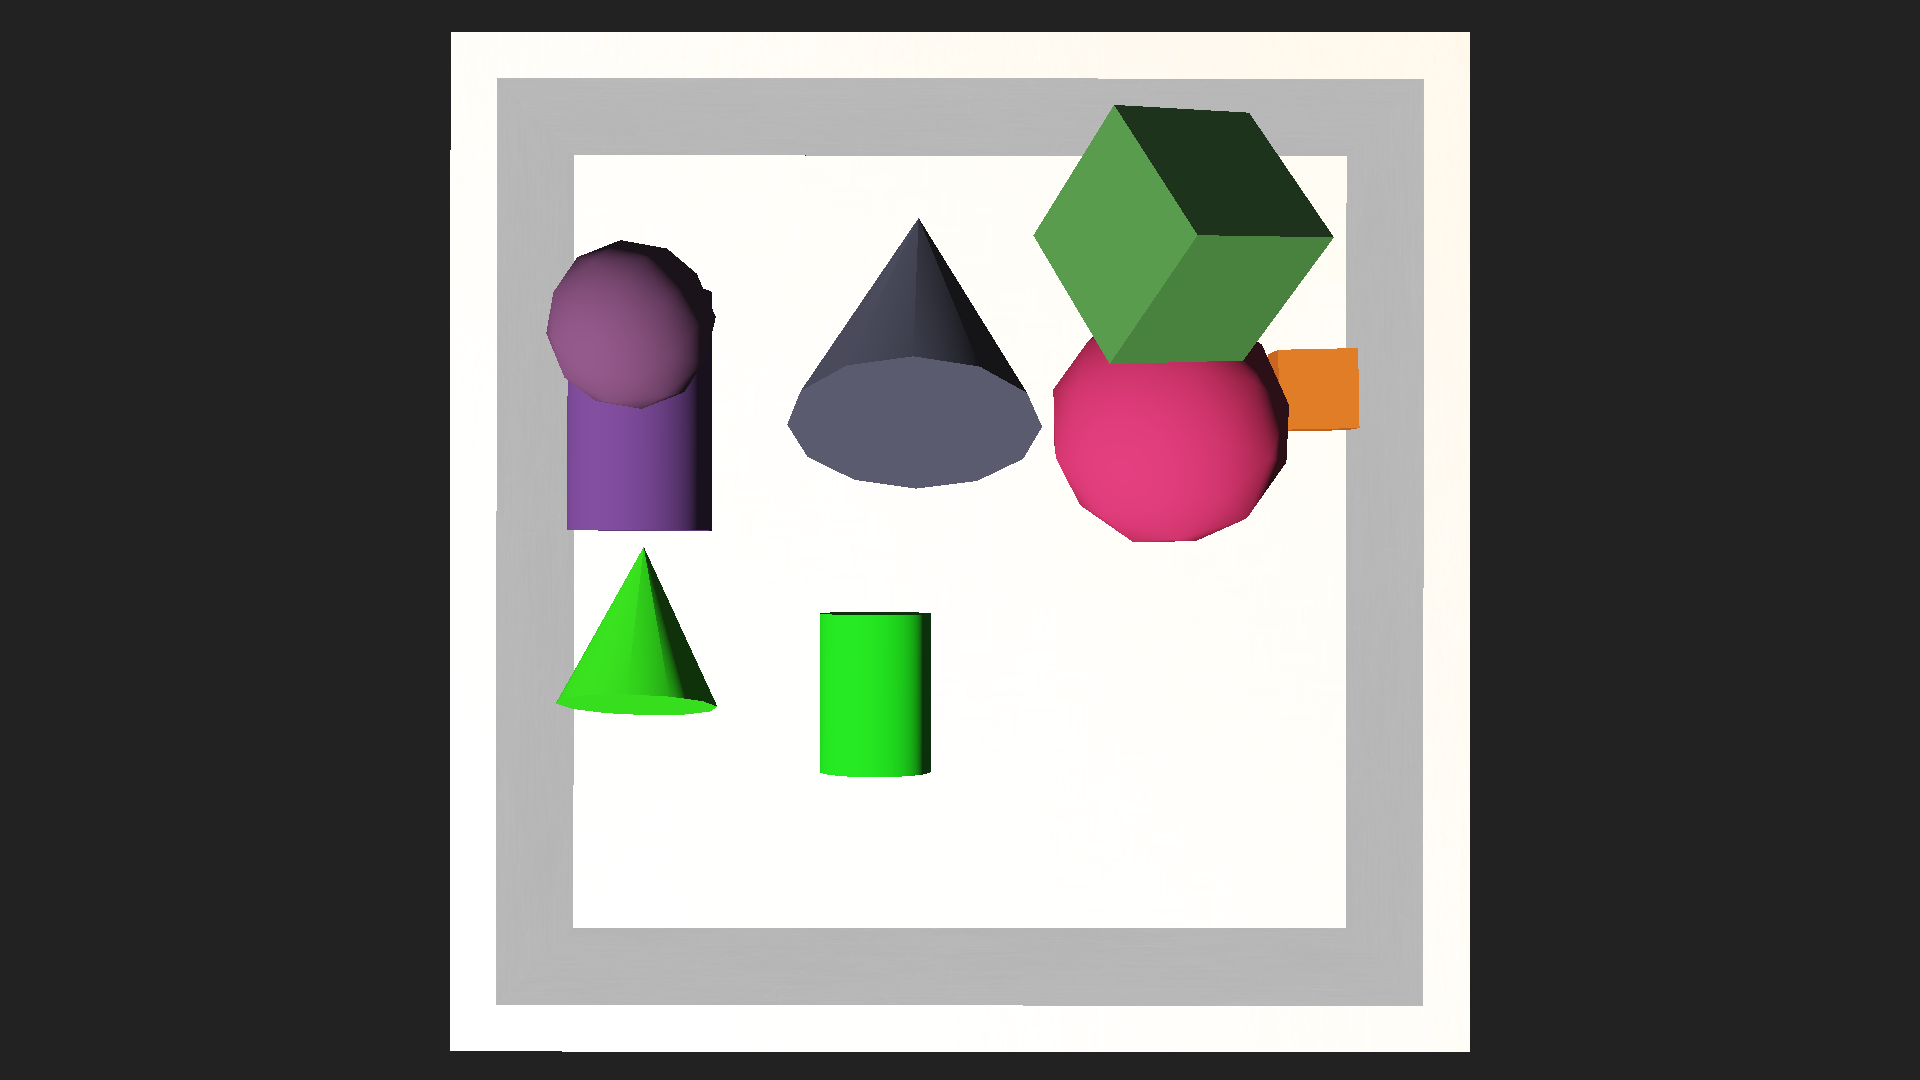3: (1029, 75, 1352, 377), (1266, 347, 1360, 434)
cone: (555, 284, 719, 530), (816, 612, 931, 777)
cylinder: (778, 119, 1048, 492), (549, 530, 723, 727)
sphere: (1047, 303, 1291, 547), (545, 239, 715, 409)
